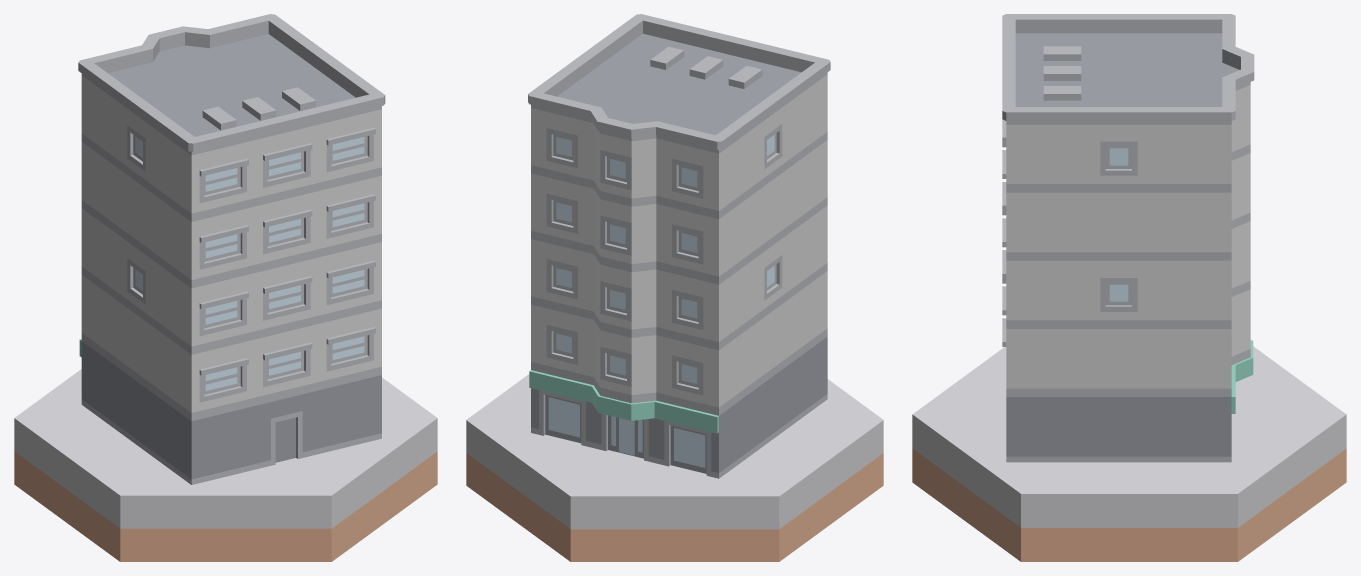
Rendered from building_2_high.fbx.
3 renders of one model, left to right at view 1: azimuth 30°, elevation 25°; view 2: azimuth 150°, elevation 25°; view 3: azimuth 270°, elevation 25°, orthographic. The views are drawn at different scales.
Parts seen in each view (by area): view 1: large_buildingE, pavement_high.015; view 2: large_buildingE, pavement_high.015; view 3: large_buildingE, pavement_high.015.
Part boxes in pixels (x1,y1,x2,y2): large_buildingE: (78,14,385,484); pavement_high.015: (14,369,437,561); large_buildingE: (528,14,830,478); pavement_high.015: (466,374,883,561); large_buildingE: (1002,14,1254,462); pavement_high.015: (912,346,1346,561).
Size of the model in its own units: 100 by 123 by 115.
